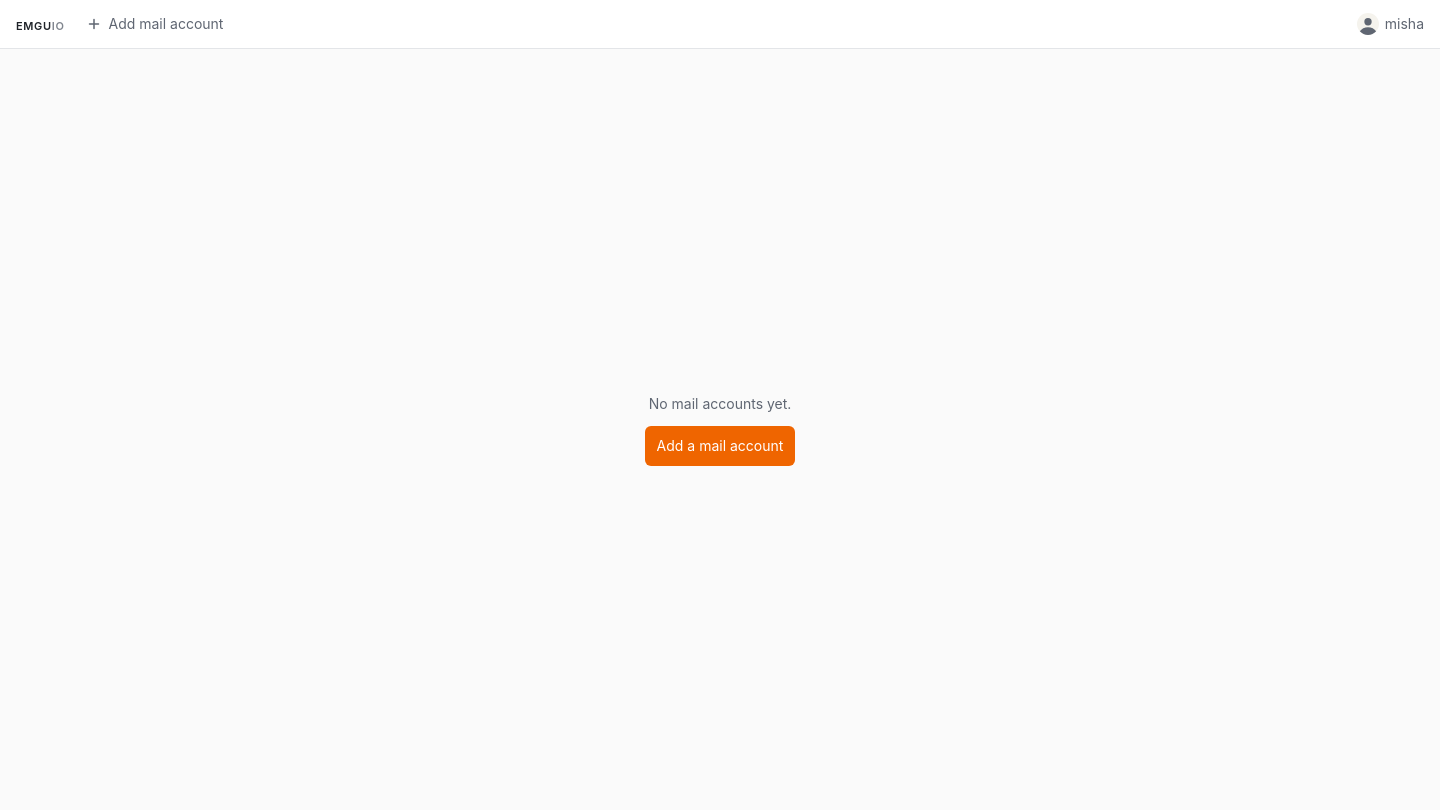
Test case: the application › points somewhere when there are no email configs yet
Click the link "Add a mail account".
click(720, 446)  # box [645,426,795,466]
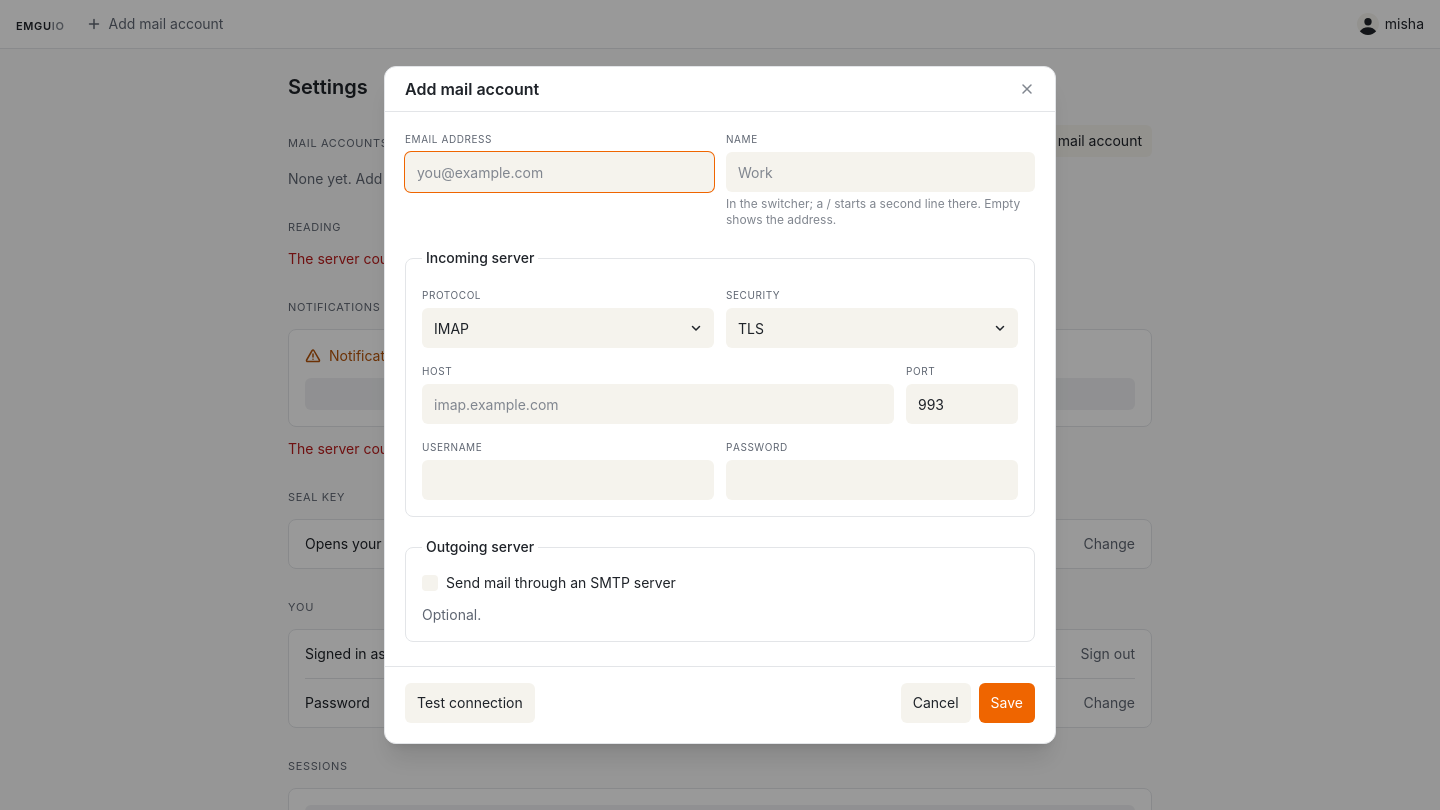
Check: the heading "Add mail account" is shown, box [405,77,539,101]
